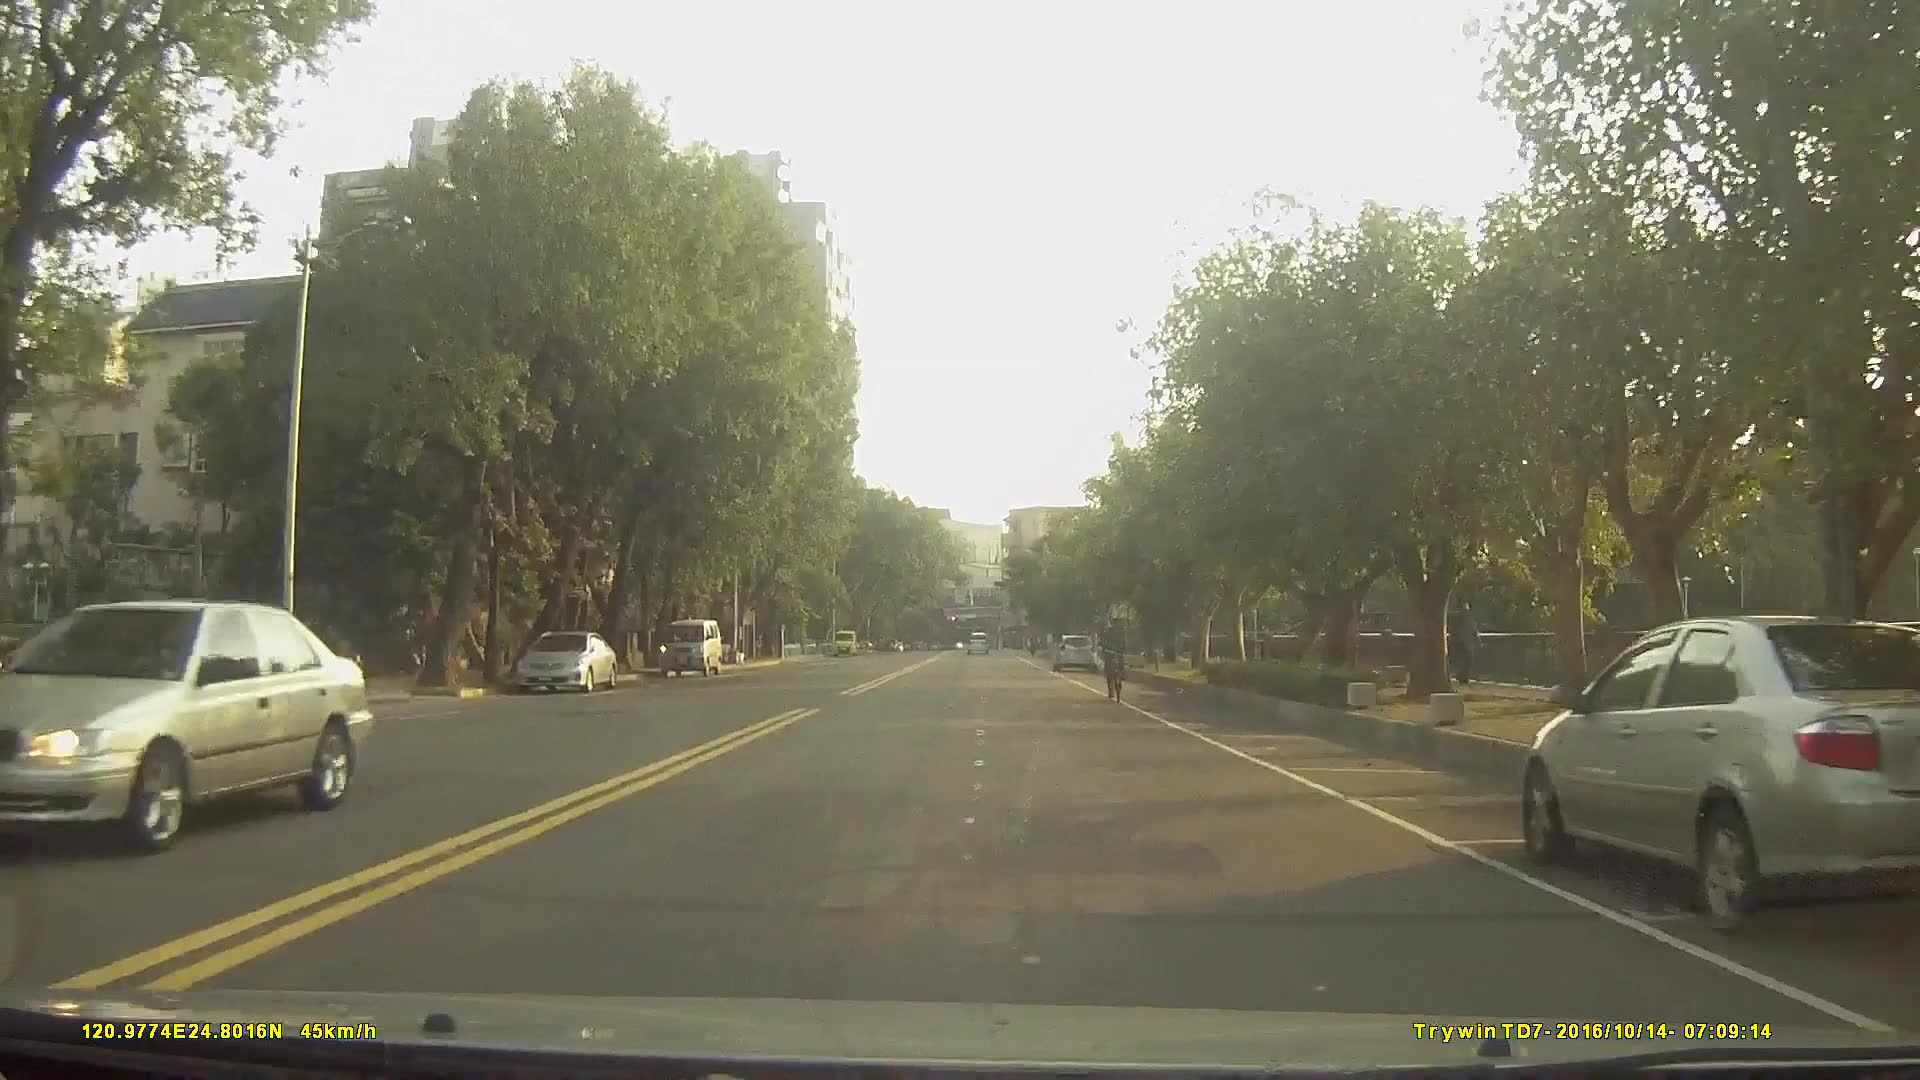rider: (1099, 614, 1131, 702)
vehicle: (1520, 612, 1920, 932), (0, 598, 371, 852), (513, 630, 617, 697), (655, 617, 721, 680), (1050, 632, 1096, 672), (964, 626, 989, 652)
